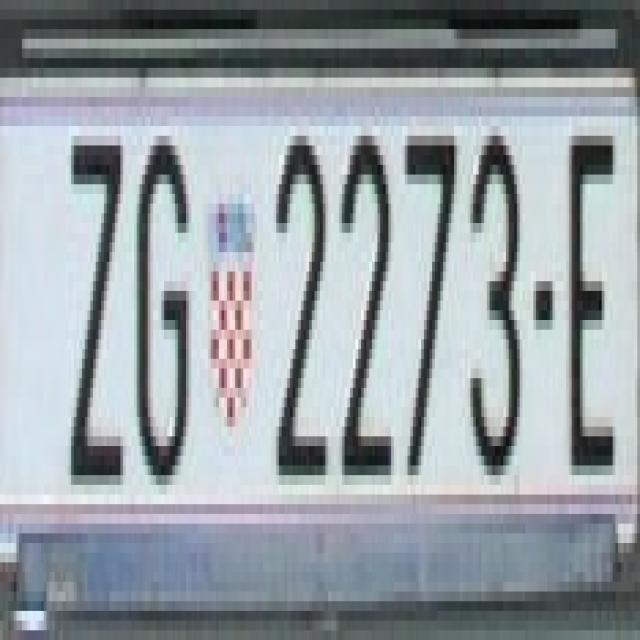2: (271, 121, 328, 480), (338, 126, 392, 475)
3: (468, 126, 520, 475)
7: (401, 126, 455, 475)
E: (566, 122, 618, 470)
G: (134, 131, 191, 480)
Z: (66, 121, 126, 480)
